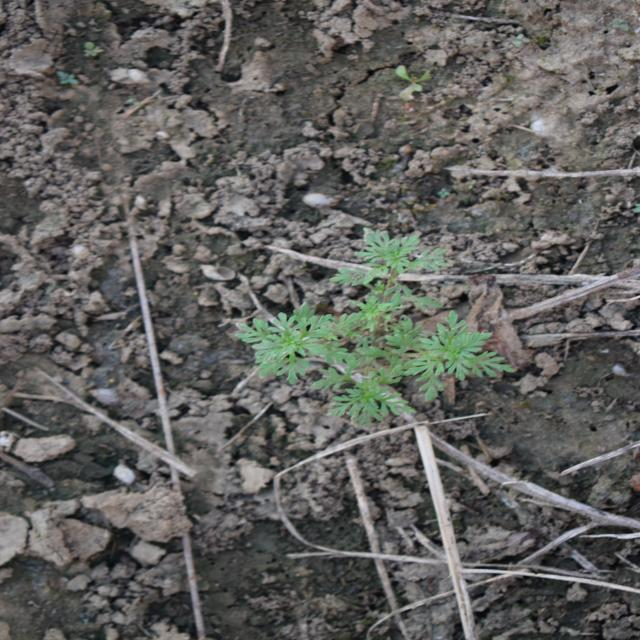Ragweed: (232, 227, 520, 428)
